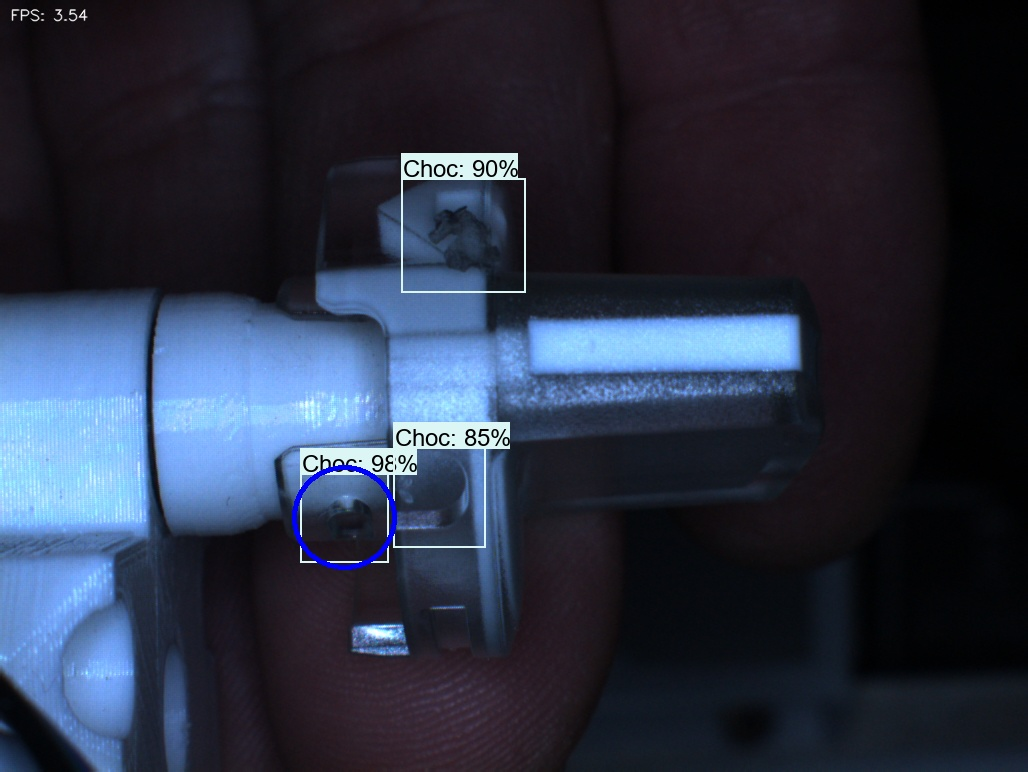DentOk: (350, 175, 421, 279)
